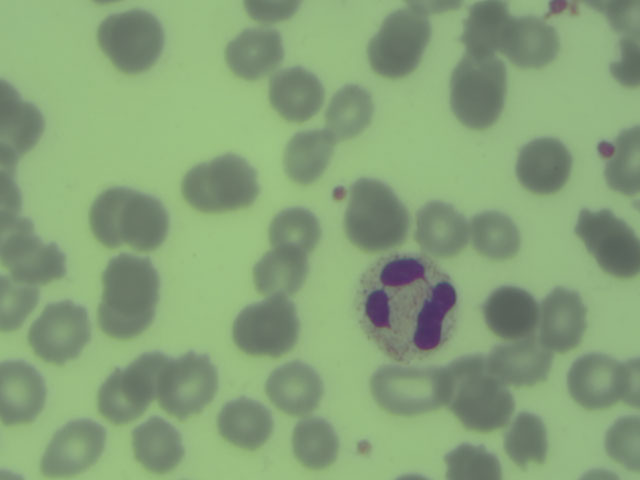Platelets: (592, 137, 622, 165), (349, 435, 378, 459), (326, 181, 352, 207), (546, 1, 574, 22)
RBC: (449, 53, 503, 130), (348, 181, 405, 248), (537, 282, 591, 347), (370, 13, 427, 74), (564, 349, 621, 408), (489, 340, 557, 389), (1, 245, 74, 290), (119, 189, 171, 251), (453, 1, 509, 57), (94, 296, 164, 339), (1, 91, 48, 155), (1, 355, 43, 426), (438, 438, 505, 480), (179, 157, 224, 216), (265, 207, 319, 256), (504, 19, 558, 68), (282, 127, 336, 176), (323, 88, 377, 137), (270, 69, 324, 118), (228, 29, 282, 78), (219, 397, 273, 446), (130, 421, 184, 470), (162, 358, 216, 407), (119, 352, 173, 401), (94, 373, 148, 422), (45, 423, 99, 472), (106, 257, 160, 306), (33, 309, 87, 358), (105, 17, 159, 66), (483, 284, 537, 333), (573, 201, 627, 250), (518, 138, 572, 187), (466, 208, 520, 257), (410, 200, 464, 249), (291, 420, 345, 469), (270, 360, 324, 409), (240, 306, 294, 355), (500, 415, 554, 464), (458, 382, 512, 431), (437, 352, 491, 401), (377, 365, 431, 414), (254, 251, 308, 300), (87, 186, 131, 246), (212, 152, 259, 206), (599, 411, 640, 472), (593, 230, 640, 275), (1, 278, 38, 334), (603, 1, 640, 56), (238, 1, 304, 29), (1, 166, 30, 227), (1, 215, 40, 254)
WBC: (356, 254, 465, 359)
